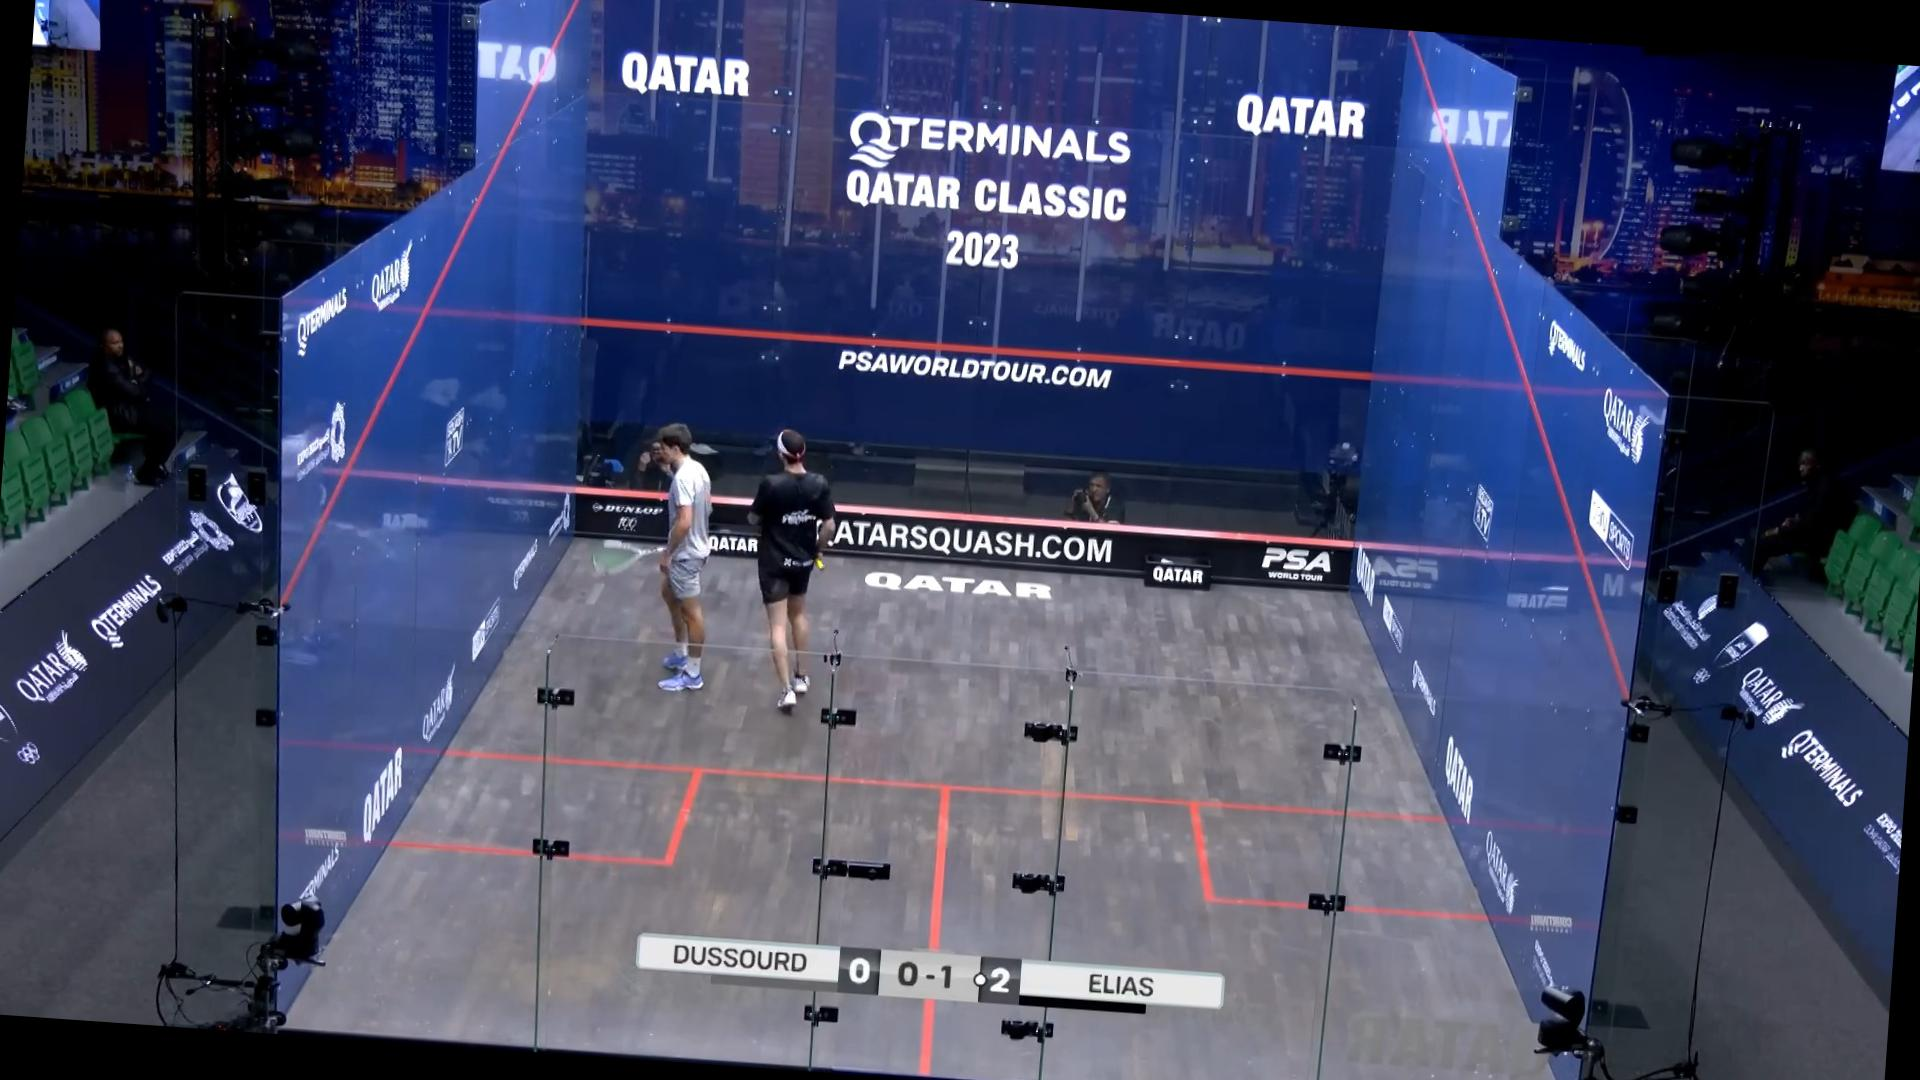Racket: (584, 530, 666, 582)
